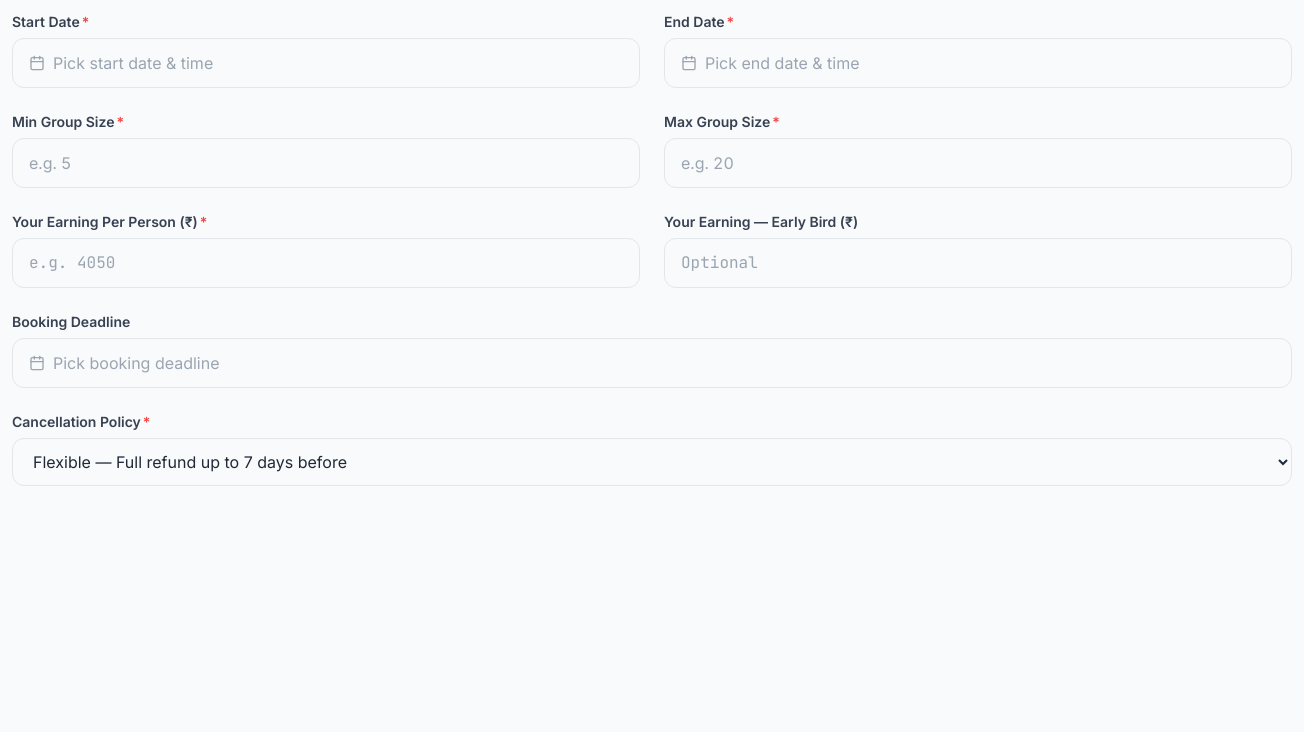
Test: DatesPricingTab — earning -> gross price conversion › applies the same net -> gross conversion and below-minimum validation independently to the early-bird earning field
The image size is (1304, 732).
// Regular earning stays untouched — should not affect the early-bird field
Type "4000" into the field with placeholder "Optional". click: (978, 263)
box: [664,238,1292,288]
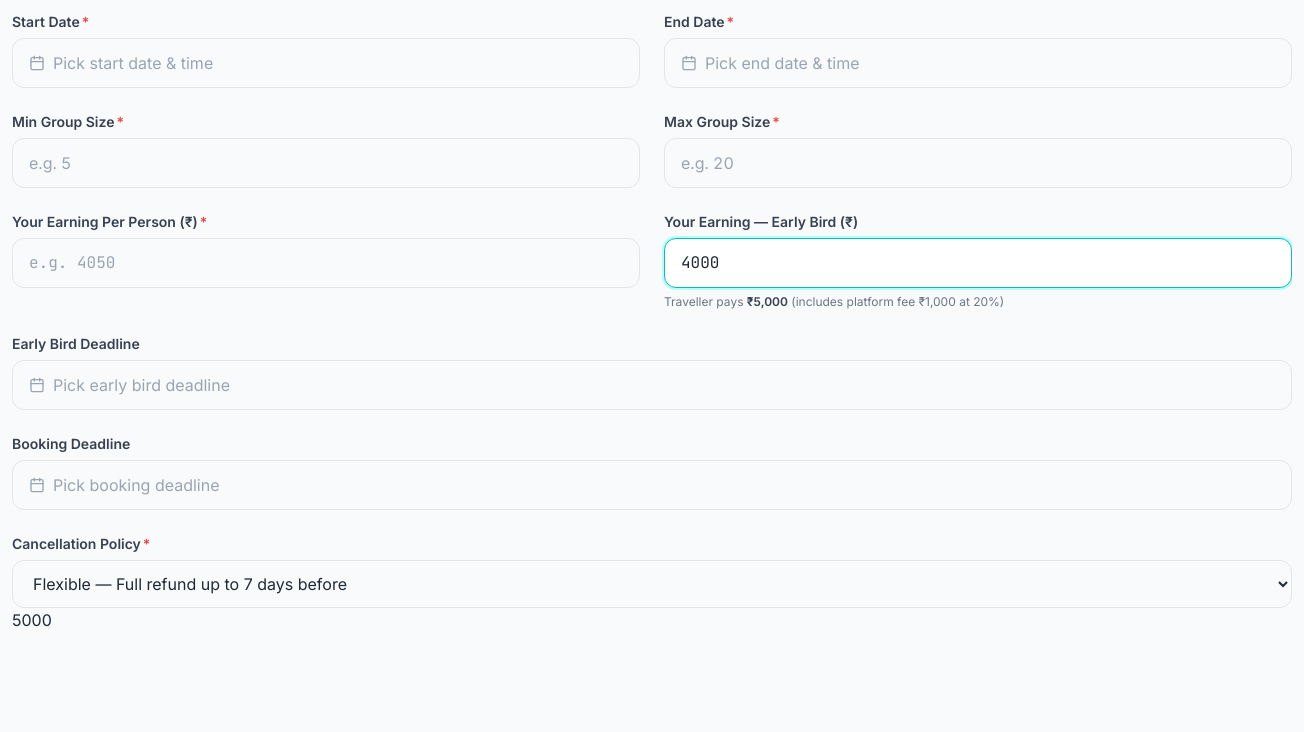
Expected: the field with placeholder "e.g. 4050" is empty, [12,238,640,288]
Now the text with test id "gross-early-bird" reads "5000", box [12,610,52,630]
Now the element showing "Traveller pays ₹5,000 (includes platform fee ₹1,000 at 20%)" is shown, box [664,294,1004,309]
